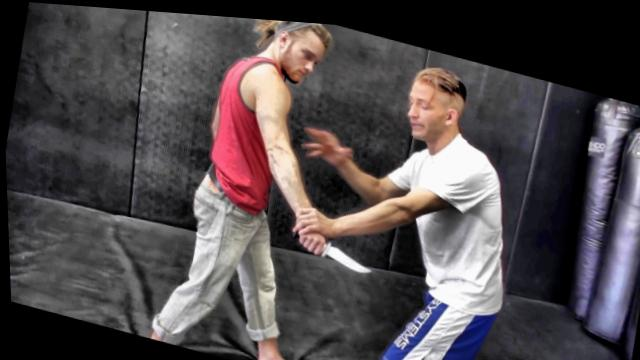knife: (283, 223, 379, 279)
